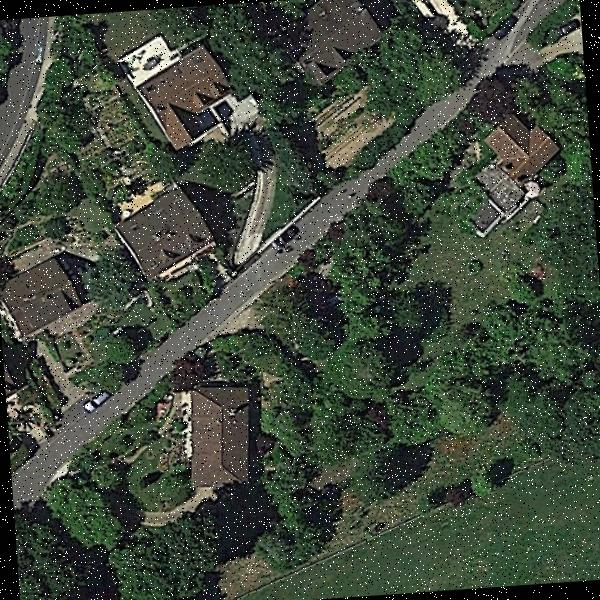Buildings: (295, 0, 372, 83), (187, 384, 252, 481), (142, 58, 227, 130), (112, 204, 208, 261), (4, 264, 78, 330), (483, 125, 557, 182)
